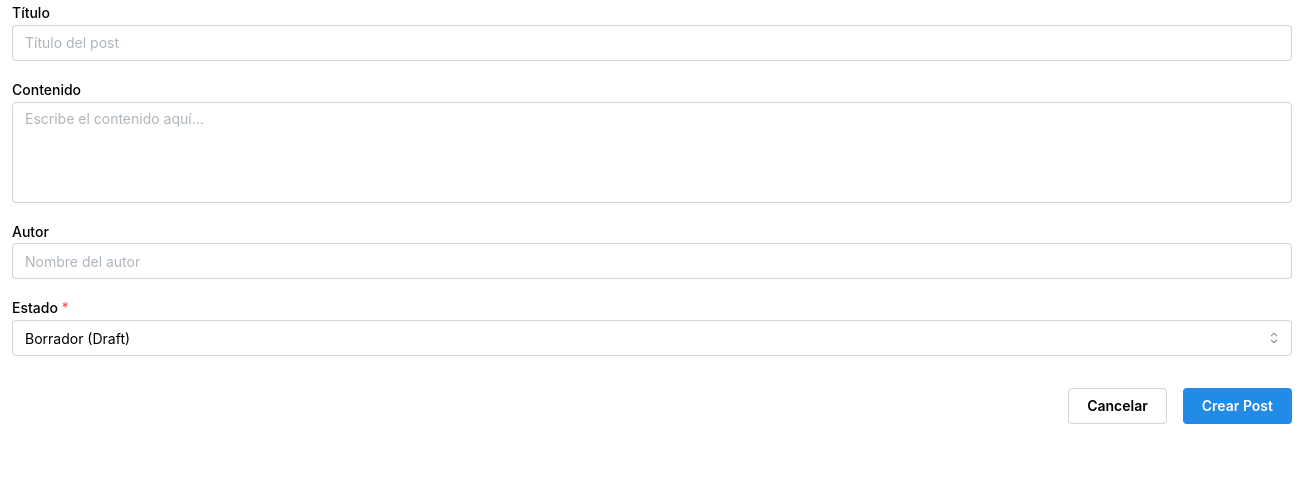
PostForm › shows validation errors on submit with empty fields
The width and height of the screenshot is (1304, 499).
Click the button "Crear Post" at (1237, 406), box [1183,388,1292,424]
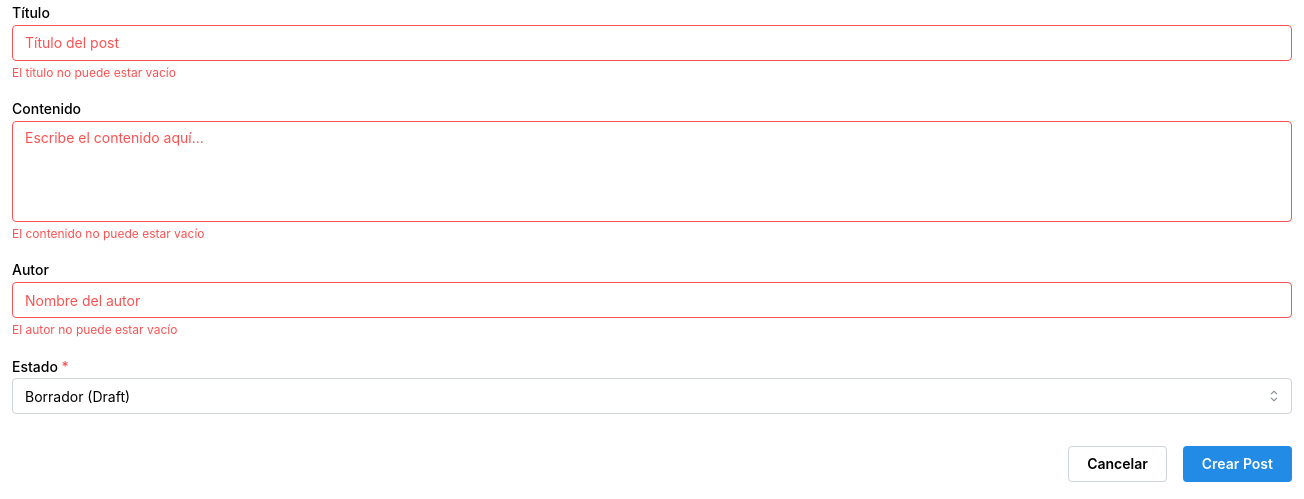
Check: the text "El titulo no puede estar vacío" is shown, box [12,65,176,80]
Check: the text "El contenido no puede estar vacío" is shown, box [12,226,204,241]
Check: the text "El autor no puede estar vacío" is shown, box [12,322,177,337]
